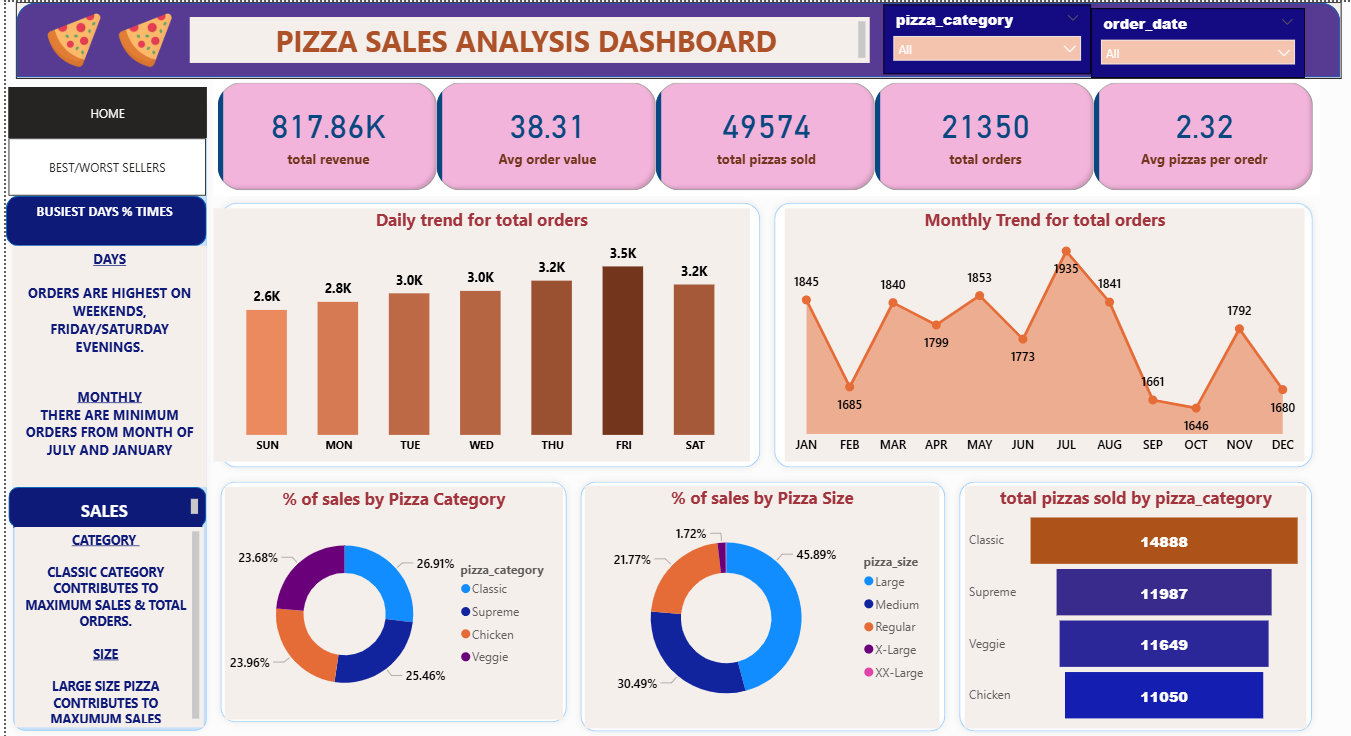

The dashboard page shown, as its layout file describes it:
{"tool":"powerbi","page":{"name":"HOME","canvas":[1500,820],"ordinal":0},"visuals":[{"type":"cardVisual","fields":{"Data":["pizza_sales.total revenue","pizza_sales.Avg order value","pizza_sales.total pizzas sold","pizza_sales.total orders","pizza_sales.Avg pizzas per oredr"]},"box":[231.2,85,1232.5,130.9],"z":0},{"type":"shape","box":[11.8,0,1476.5,85.3],"z":1000},{"type":"shape","box":[231.2,215.9,617,310.6],"z":2000},{"type":"columnChart","title":"Daily trend for total orders","fields":{"Category":["pizza_sales.order day"],"Y":["pizza_sales.total orders"]},"box":[231.2,229.8,597.5,282.7],"z":3000},{"type":"shape","box":[848.1,215.9,615.6,310.6],"z":4000},{"type":"areaChart","title":"Monthly Trend for total orders","fields":{"Category":["pizza_sales.order month"],"Y":["pizza_sales.total orders"]},"box":[867.6,229.8,579.4,282.7],"z":5000},{"type":"shape","box":[230.9,526.5,401.5,283.8],"z":6000},{"type":"shape","box":[632.4,526.5,422.1,294.1],"z":7000},{"type":"shape","box":[1054.4,526.5,408.8,294.1],"z":8000},{"type":"donutChart","title":"% of sales by Pizza Category","fields":{"Category":["pizza_sales.pizza_category"],"Y":["pizza_sales.total revenue"]},"box":[244.1,539.7,376.5,258.8],"z":9000},{"type":"donutChart","title":"% of sales by Pizza Size","fields":{"Y":["pizza_sales.total revenue"],"Category":["pizza_sales.pizza_size"]},"box":[644.8,538.7,395.6,270.2],"z":10000},{"type":"funnel","fields":{"Category":["pizza_sales.pizza_category"],"Y":["pizza_sales.total pizzas sold"]},"box":[1067.8,538.7,381.1,270.2],"z":11000},{"type":"shape","box":[0,94.9,231.6,725.2],"z":12000},{"type":"shape","box":[0,215.5,223.5,56.3],"z":13000},{"type":"textbox","box":[5.9,219.1,208.8,50],"z":14000},{"type":"textbox","box":[6.4,271.8,217.1,268.5],"z":15000},{"type":"shape","box":[3.2,540.3,220.3,45],"z":16000},{"type":"textbox","box":[8.8,548.5,210.3,36.8],"z":17000},{"type":"textbox","box":[9.6,585.3,210.7,223.5],"z":18000},{"type":"slicer","fields":{"Values":["pizza_sales.pizza_category"]},"box":[977.9,2.9,230.9,77.9],"z":19000},{"type":"slicer","fields":{"Values":["pizza_sales.order_date"]},"box":[1208.8,7.4,238.2,77.9],"z":20000},{"type":"pageNavigator","box":[2.8,94.7,221.4,57.1],"z":21000},{"type":"pageNavigator","box":[2.8,151.8,220,64.1],"z":22000},{"type":"image","box":[115.6,7,79.4,71],"z":23000},{"type":"textbox","box":[204.7,16.7,757.6,51.5],"z":24000},{"type":"image","box":[36.2,7,79.4,71],"z":25000}]}

Visuals, with their boxes in screenshot pixels (x1, y1, x2, y2), scaled from the page's 1500x820 canvas onto the 1351x736 screenshot:
cardVisual - pizza_sales.total revenue x pizza_sales.Avg order value: bbox=(208, 76, 1318, 194)
shape: bbox=(11, 0, 1340, 77)
shape: bbox=(208, 194, 764, 473)
"Daily trend for total orders" columnChart: bbox=(208, 206, 746, 460)
shape: bbox=(764, 194, 1318, 473)
"Monthly Trend for total orders" areaChart: bbox=(781, 206, 1303, 460)
shape: bbox=(208, 473, 570, 727)
shape: bbox=(570, 473, 950, 735)
shape: bbox=(950, 473, 1318, 735)
"% of sales by Pizza Category" donutChart: bbox=(220, 484, 559, 717)
"% of sales by Pizza Size" donutChart: bbox=(581, 484, 937, 726)
funnel - pizza_sales.pizza_category x pizza_sales.total pizzas sold: bbox=(962, 484, 1305, 726)
shape: bbox=(0, 85, 209, 735)
shape: bbox=(0, 193, 201, 244)
textbox: bbox=(5, 197, 193, 242)
textbox: bbox=(6, 244, 201, 485)
shape: bbox=(3, 485, 201, 525)
textbox: bbox=(8, 492, 197, 525)
textbox: bbox=(9, 525, 198, 726)
slicer - pizza_sales.pizza_category: bbox=(881, 3, 1089, 73)
slicer - pizza_sales.order_date: bbox=(1089, 7, 1303, 77)
pageNavigator: bbox=(3, 85, 202, 136)
pageNavigator: bbox=(3, 136, 201, 194)
image: bbox=(104, 6, 176, 70)
textbox: bbox=(184, 15, 867, 61)
image: bbox=(33, 6, 104, 70)
